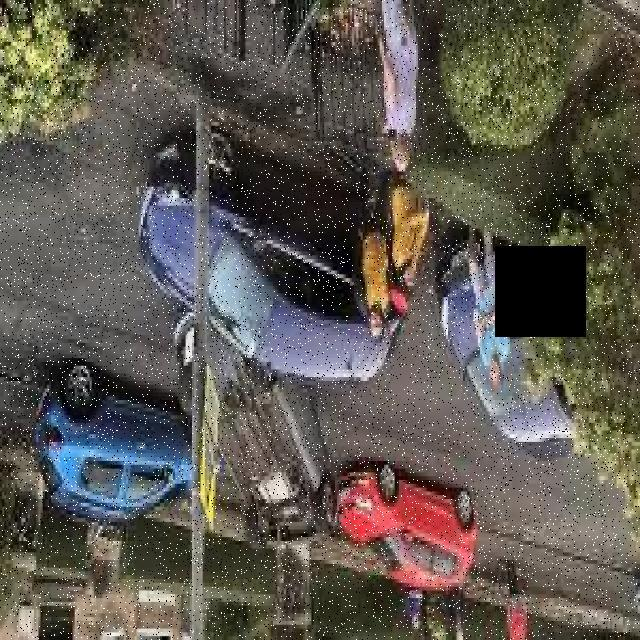severe: (170, 305, 340, 560)
